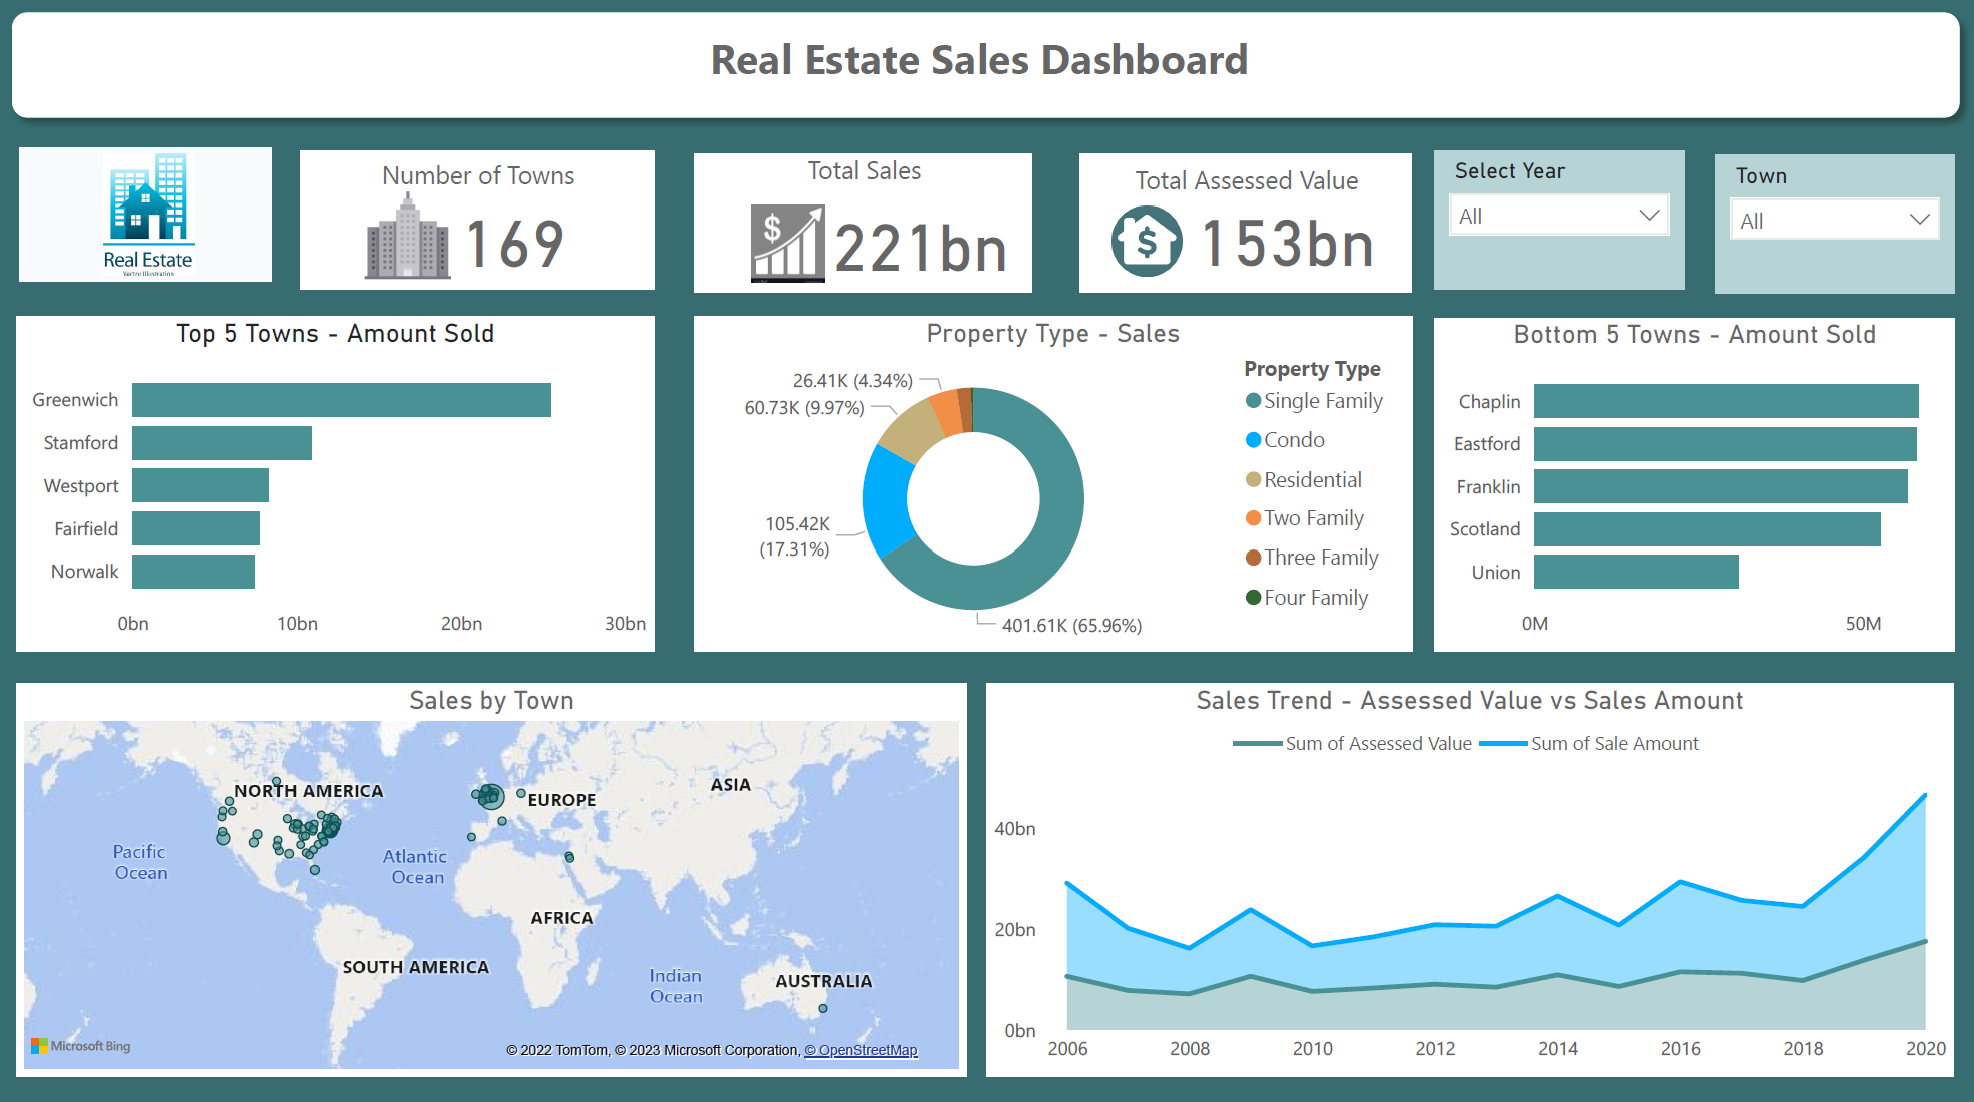

Layout of this report page (visuals, bound fields, positions):
{"tool":"powerbi","page":{"name":"Page 2","canvas":[1280,720],"ordinal":0},"visuals":[{"type":"shape","box":[451.4,98.9,217.2,89.8],"z":0},{"type":"shape","box":[195.7,97.8,229.3,90.2],"z":2000},{"type":"shape","box":[685.3,99.6,214.9,90.1],"z":3000},{"type":"shape","box":[0,0,1279.5,85.6],"z":4000},{"type":"card","fields":{"Values":["Sum(Real_Estate_Sales_2001-2020_GL.Sale Amount)"]},"box":[534.9,129.1,133.7,54.4],"z":5000},{"type":"card","fields":{"Values":["Count(Real_Estate_Sales_2001-2020_GL.Town)"]},"box":[279.9,124.4,107.3,60.6],"z":6000},{"type":"card","fields":{"Values":["Sum(Real_Estate_Sales_2001-2020_GL.Assessed Value)"]},"box":[751.2,125.6,131.7,62.4],"z":7000},{"type":"textbox","box":[205.3,98,211.5,35.8],"z":8000},{"type":"textbox","box":[505.4,94.9,112,35.8],"z":9000},{"type":"image","box":[479,127.5,63.8,60.6],"z":10000},{"type":"textbox","box":[694.9,101.4,194.9,36.4],"z":11000},{"type":"image","box":[688.8,130,79.7,56.3],"z":12000},{"type":"slicer","fields":{"Values":["Real_Estate_Sales_2001-2020_GL.List Year"]},"box":[929.7,97.9,162,90.1],"z":13000},{"type":"slicer","fields":{"Values":["Real_Estate_Sales_2001-2020_GL.Town"]},"box":[1112.5,97.9,155.1,90.1],"z":14000},{"type":"map","title":"Sales by Town","fields":{"Category":["Real_Estate_Sales_2001-2020_GL.Town"],"Size":["Sum(Real_Estate_Sales_2001-2020_GL.Sale Amount)"]},"box":[12.1,442.7,604.8,253.9],"z":15000},{"type":"barChart","title":"Top 5 Towns - Amount Sold","fields":{"Category":["Real_Estate_Sales_2001-2020_GL.Town"],"Y":["Sum(Real_Estate_Sales_2001-2020_GL.Sale Amount)"]},"box":[12.1,204.5,413.3,215.7],"z":16000},{"type":"barChart","title":"Bottom 5 Towns - Amount Sold","fields":{"Y":["Sum(Real_Estate_Sales_2001-2020_GL.Sale Amount)"],"Category":["Real_Estate_Sales_2001-2020_GL.Town"]},"box":[929.9,206.8,337.5,214.6],"z":17000},{"type":"donutChart","title":"Property Type - Sales","fields":{"Category":["Real_Estate_Sales_2001-2020_GL.Property Type"],"Y":["CountNonNull(Real_Estate_Sales_2001-2020_GL.Sale Amount)"]},"box":[450.5,206.2,449.7,215.7],"z":18000},{"type":"stackedAreaChart","title":"Sales Trend - Assessed Value vs Sales Amount","fields":{"Category":["Real_Estate_Sales_2001-2020_GL.List Year"],"Y":["Sum(Real_Estate_Sales_2001-2020_GL.Assessed Value)","Sum(Real_Estate_Sales_2001-2020_GL.Sale Amount)"]},"box":[640.3,442.7,627.3,253.9],"z":19000},{"type":"textbox","box":[356.2,15.3,559.5,53.5],"z":20000},{"type":"image","box":[218.6,119.2,91.7,68.8],"z":21000},{"type":"shape","box":[12.2,94.8,166.6,90.2],"z":22000},{"type":"image","box":[27.5,94.8,137.6,88.7],"z":23000}]}

Visuals, with their boxes in screenshot pixels (x1, y1, x2, y2), scaled from the page's 1280x720 canvas onto the 1974x1102 screenshot:
shape: [696, 151, 1031, 289]
shape: [302, 150, 655, 288]
shape: [1057, 152, 1388, 290]
shape: [0, 0, 1973, 131]
card - Sum(Real_Estate_Sales_2001-2020_GL.Sale Amount): [825, 198, 1031, 281]
card - Count(Real_Estate_Sales_2001-2020_GL.Town): [432, 190, 597, 283]
card - Sum(Real_Estate_Sales_2001-2020_GL.Assessed Value): [1158, 192, 1362, 288]
textbox: [317, 150, 643, 205]
textbox: [779, 145, 952, 200]
image: [739, 195, 837, 288]
textbox: [1072, 155, 1372, 211]
image: [1062, 199, 1185, 285]
slicer - Real_Estate_Sales_2001-2020_GL.List Year: [1434, 150, 1684, 288]
slicer - Real_Estate_Sales_2001-2020_GL.Town: [1716, 150, 1955, 288]
"Sales by Town" map: [19, 678, 951, 1066]
"Top 5 Towns - Amount Sold" barChart: [19, 313, 656, 643]
"Bottom 5 Towns - Amount Sold" barChart: [1434, 317, 1955, 645]
"Property Type - Sales" donutChart: [695, 316, 1388, 646]
"Sales Trend - Assessed Value vs Sales Amount" stackedAreaChart: [987, 678, 1955, 1066]
textbox: [549, 23, 1412, 105]
image: [337, 182, 479, 288]
shape: [19, 145, 276, 283]
image: [42, 145, 255, 281]
